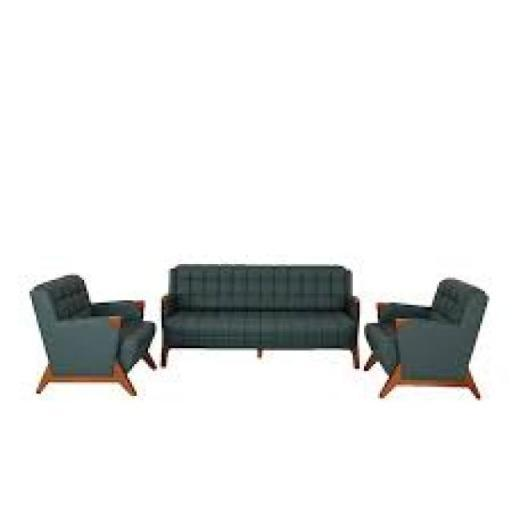sofa: (26, 259, 502, 448)
